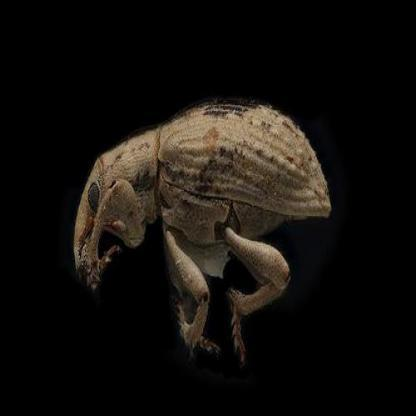rice-bug: (73, 98, 336, 348)
